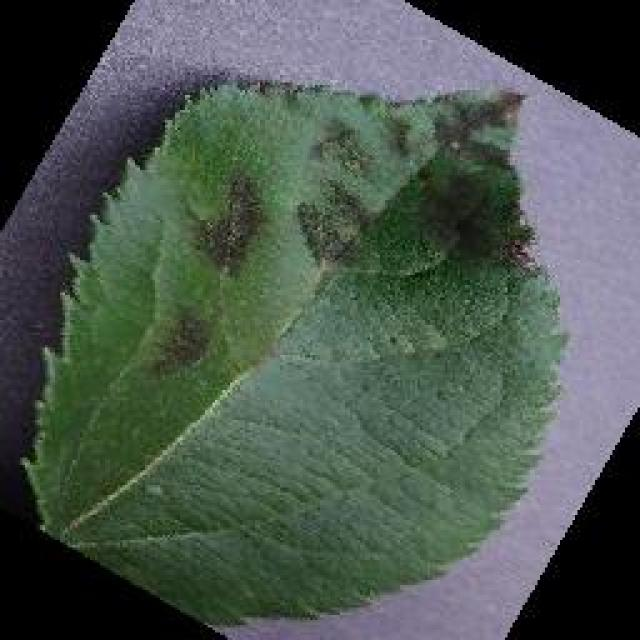apple scab disease: (20, 75, 568, 627)
